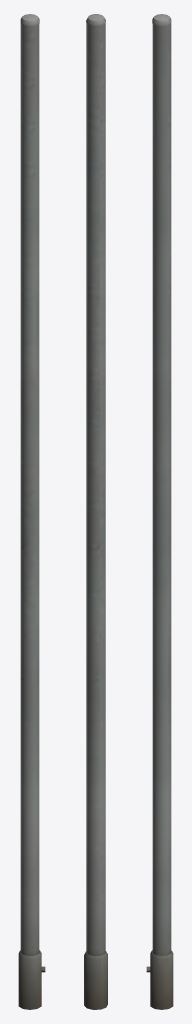
The model's file is signPost-v2.glb.
3 renders of one model, left to right at view 1: azimuth 90°, elevation 25°; view 2: azimuth 150°, elevation 25°; view 3: azimuth 270°, elevation 25°, orthographic.
Parts seen in each view (by area): view 1: signPost; view 2: signPost; view 3: signPost.
Boxes of the visible parts, x1,y1,x2,y2 form: signPost: (18, 14, 45, 1009); signPost: (84, 14, 107, 1009); signPost: (146, 14, 173, 1009).
Bounding box in the file's own units: 0.074 × 3.35 × 0.0818.
1 material, 1 textured.
